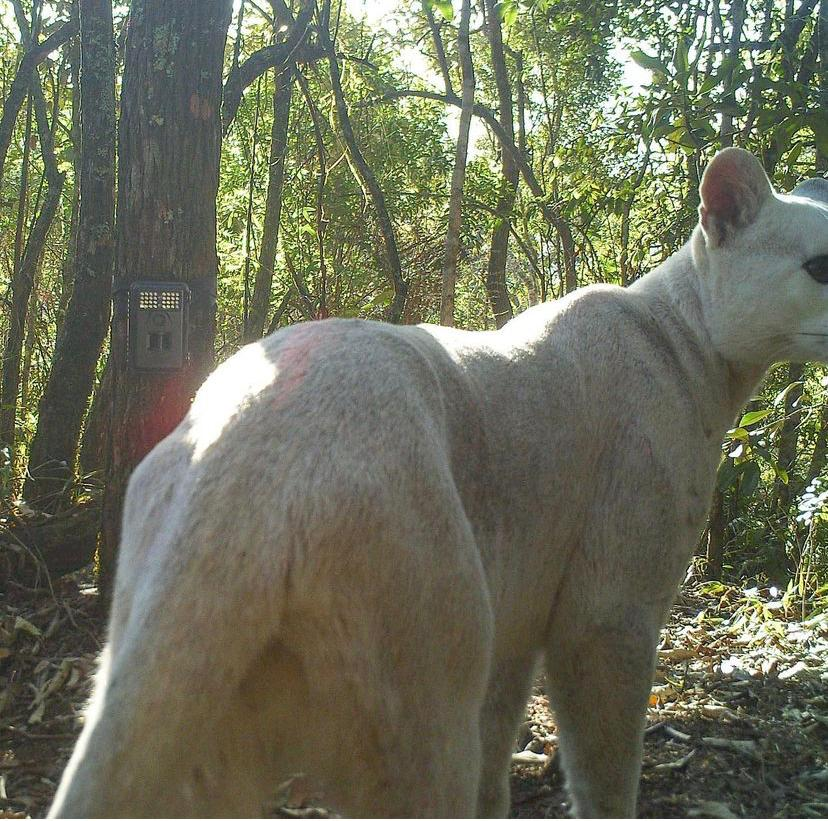OncaParda: (65, 152, 823, 802)
